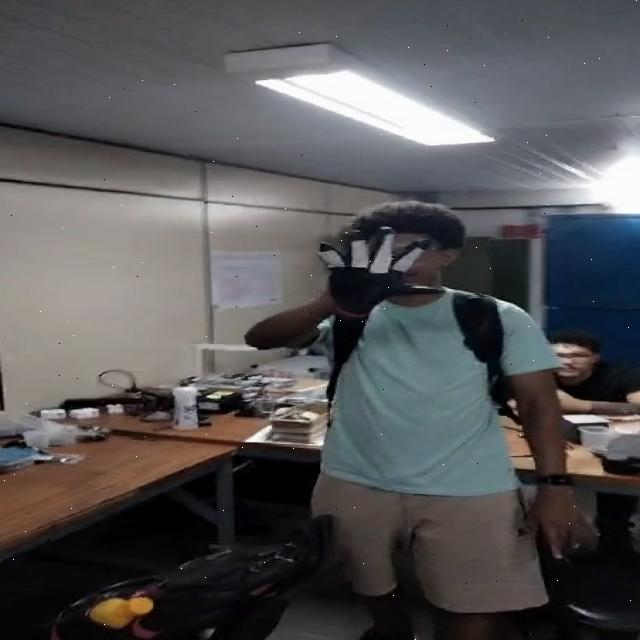Gloves: (316, 227, 432, 324)
